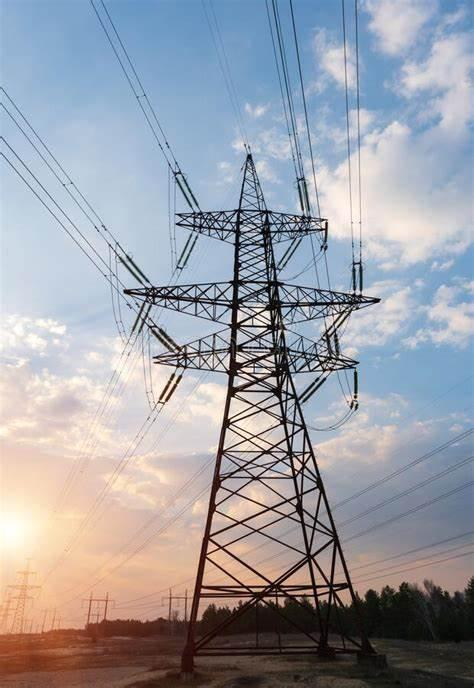power_tower: (116, 150, 407, 668)
